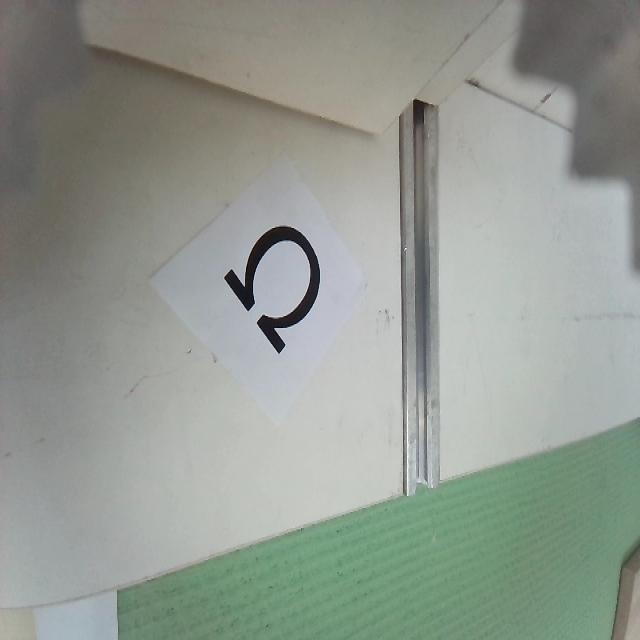OM: (222, 224, 321, 356)
